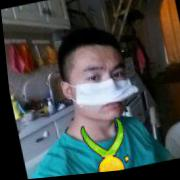WRONG: (65, 51, 134, 129)
